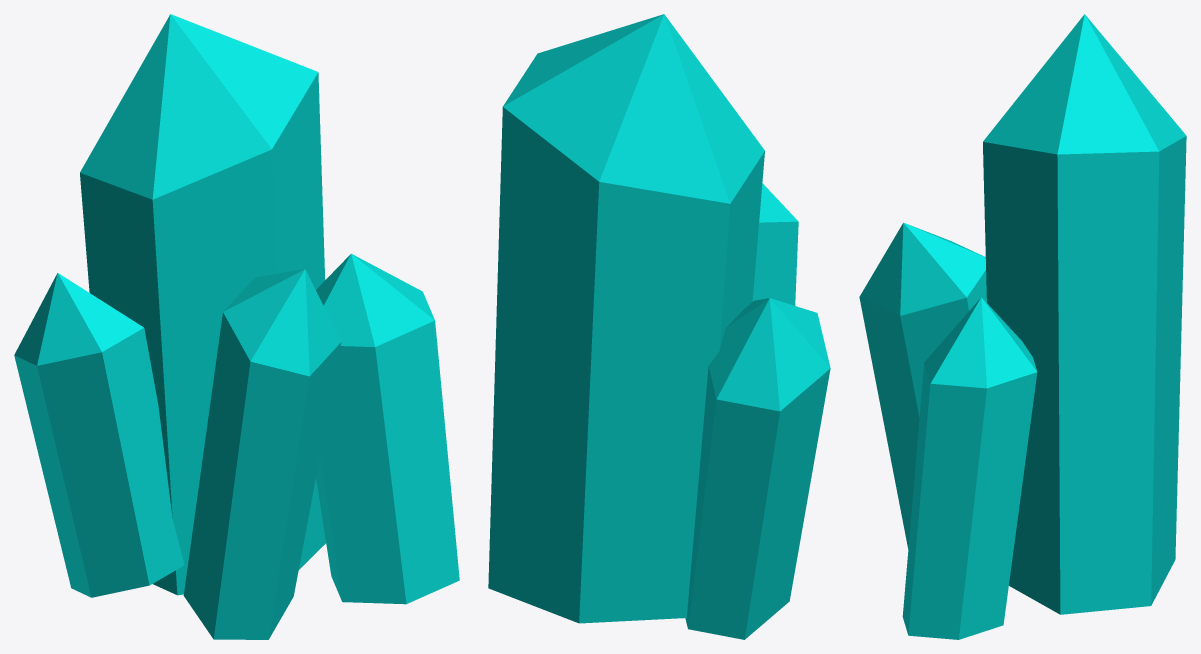
File: Crystal.fbx
3 renders of one model, left to right at view 1: azimuth 30°, elevation 25°; view 2: azimuth 150°, elevation 25°; view 3: azimuth 270°, elevation 25°, orthographic. The views are drawn at different scales.
Visible parts, largest first — view 1: Cylinder; view 2: Cylinder; view 3: Cylinder.
Boxes of the visible parts, x1,y1,x2,y2 form: Cylinder: (14, 14, 459, 639); Cylinder: (488, 14, 830, 639); Cylinder: (859, 14, 1186, 639).
Size of the model in its own units: 383 by 573 by 314.
